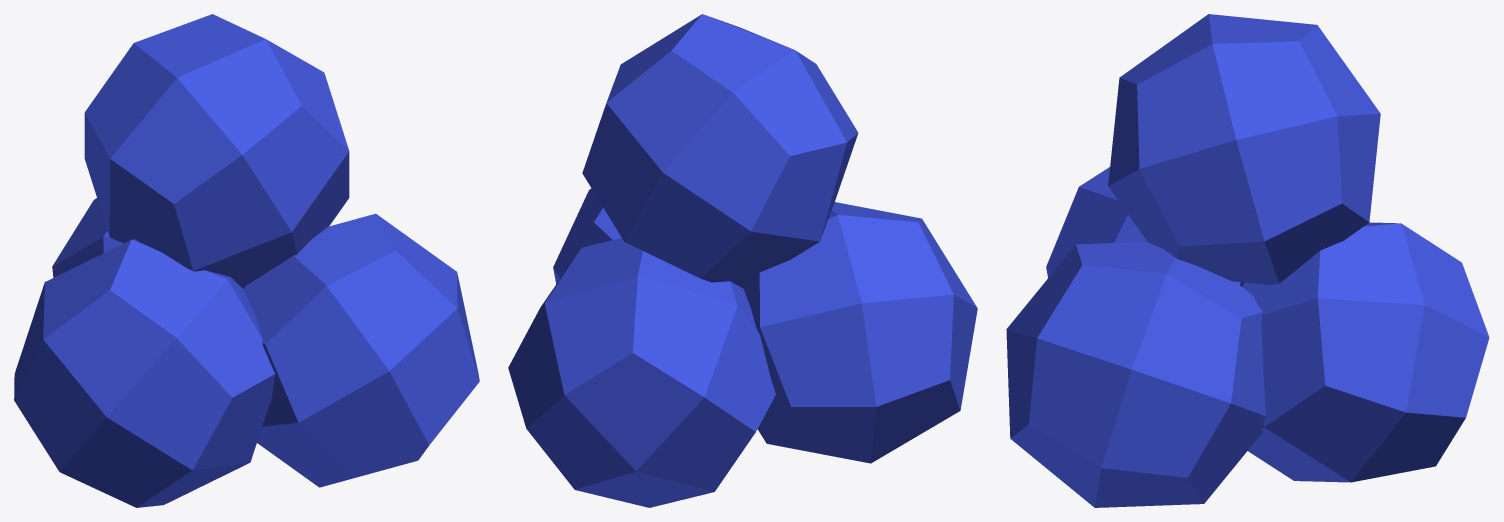
File: Berries.fbx
3 views of the same model, side by side, from view 1: azimuth 30°, elevation 25°; view 2: azimuth 150°, elevation 25°; view 3: azimuth 270°, elevation 25° (orthographic). The views are drawn at different scales.
Parts seen in each view (by area): view 1: Cube.001, Cube.002, Cube.003, Cube; view 2: Cube.001, Cube, Cube.002, Cube.003; view 3: Cube.001, Cube.003, Cube, Cube.002.
Part boxes in pixels (<box>): Cube.001: <box>84,14,349,288</box>; Cube.002: <box>14,239,275,507</box>; Cube.003: <box>243,213,479,487</box>; Cube: <box>52,198,121,277</box>; Cube.001: <box>582,14,858,288</box>; Cube: <box>508,238,775,507</box>; Cube.002: <box>744,202,977,463</box>; Cube.003: <box>553,188,621,283</box>; Cube.001: <box>1108,14,1380,285</box>; Cube.003: <box>1006,241,1265,507</box>; Cube: <box>1240,222,1489,482</box>; Cube.002: <box>1046,167,1240,284</box>.
Bounding box in the file's own units: 289 × 291 × 287.
